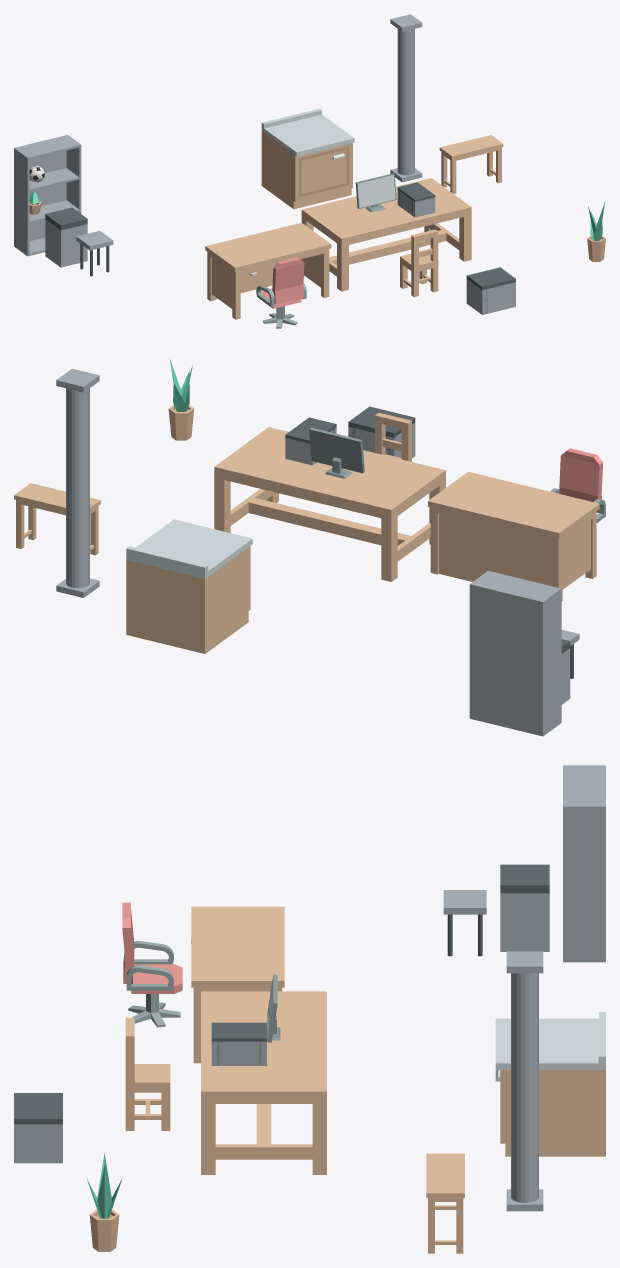
The picture shows the model from 3 angles, top to bottom: view 1: azimuth 30°, elevation 25°; view 2: azimuth 150°, elevation 25°; view 3: azimuth 270°, elevation 25°; orthographic projection. The views are drawn at different scales.
Visible parts, largest first — view 1: table_green__table(Clone), desk_blue__desk(Clone), cabinet_blue__kitchenCabinet(Clone), column_cyan__column_cyan shaft, cabinet_blue__door, chair_cyan__chair(Clone), sidetable_brown__sideTable(Clone), deskchair_black__chair, shelf_orange__shelf_orange side_l, shelf_orange__shelf_orange back, bin_gray__bin_gray shell, crate_red__crate_red shell (+10 smaller); view 2: desk_blue__desk(Clone), table_green__table(Clone), cabinet_blue__kitchenCabinet(Clone), shelf_orange__shelf_orange back, column_cyan__column_cyan shaft, shelf_orange__shelf_orange side_l, sidetable_brown__sideTable(Clone), deskchair_black__chair, monitor_gray__computerScreen(Clone), chair_cyan__chair(Clone), shelf_orange__shelf_orange board3, crate_red__crate_red lid (+8 smaller); view 3: table_green__table(Clone), cabinet_blue__kitchenCabinet(Clone), desk_blue__desk(Clone), shelf_orange__shelf_orange side_r, column_cyan__column_cyan shaft, bin_gray__bin_gray shell, chair_cyan__chair(Clone), deskchair_black__chair, sidetable_brown__sideTable(Clone), crate_red__crate_red shell, shelf_orange__shelf_orange board3, crate_red__crate_red lid (+9 smaller).
Boxes of the visible parts, x1,y1,x2,y2 form: table_green__table(Clone): (301, 178, 471, 291); desk_blue__desk(Clone): (205, 222, 331, 319); cabinet_blue__kitchenCabinet(Clone): (261, 108, 354, 209); column_cyan__column_cyan shaft: (397, 28, 414, 175); cabinet_blue__door: (298, 146, 349, 197); chair_cyan__chair(Clone): (400, 229, 438, 296); sidetable_brown__sideTable(Clone): (439, 135, 503, 193); deskchair_black__chair: (256, 257, 306, 308); shelf_orange__shelf_orange side_l: (14, 147, 29, 256); shelf_orange__shelf_orange back: (16, 135, 66, 240); bin_gray__bin_gray shell: (45, 219, 87, 267); crate_red__crate_red shell: (466, 279, 515, 314); desk_blue__desk(Clone): (428, 471, 599, 601); table_green__table(Clone): (214, 427, 445, 581); cabinet_blue__kitchenCabinet(Clone): (126, 519, 252, 653); shelf_orange__shelf_orange back: (472, 584, 540, 735); column_cyan__column_cyan shaft: (66, 388, 89, 588); shelf_orange__shelf_orange side_l: (540, 588, 561, 736); sidetable_brown__sideTable(Clone): (14, 483, 100, 555); deskchair_black__chair: (550, 448, 605, 523); monitor_gray__computerScreen(Clone): (309, 427, 364, 478); chair_cyan__chair(Clone): (375, 412, 411, 461); shelf_orange__shelf_orange board3: (474, 571, 558, 600); crate_red__crate_red lid: (348, 406, 415, 437); table_green__table(Clone): (201, 991, 326, 1174); cabinet_blue__kitchenCabinet(Clone): (495, 1012, 605, 1156); desk_blue__desk(Clone): (191, 906, 284, 1063); shelf_orange__shelf_orange side_r: (563, 805, 605, 962); column_cyan__column_cyan shaft: (511, 973, 538, 1202); bin_gray__bin_gray shell: (500, 893, 549, 951); chair_cyan__chair(Clone): (125, 1017, 170, 1130); deskchair_black__chair: (122, 902, 182, 993); sidetable_brown__sideTable(Clone): (426, 1153, 464, 1253); crate_red__crate_red shell: (14, 1124, 62, 1163); shelf_orange__shelf_orange board3: (563, 766, 603, 805); crate_red__crate_red lid: (14, 1093, 62, 1124).
Bounding box in the file's own units: 6.43 × 2.2 × 4.82.
